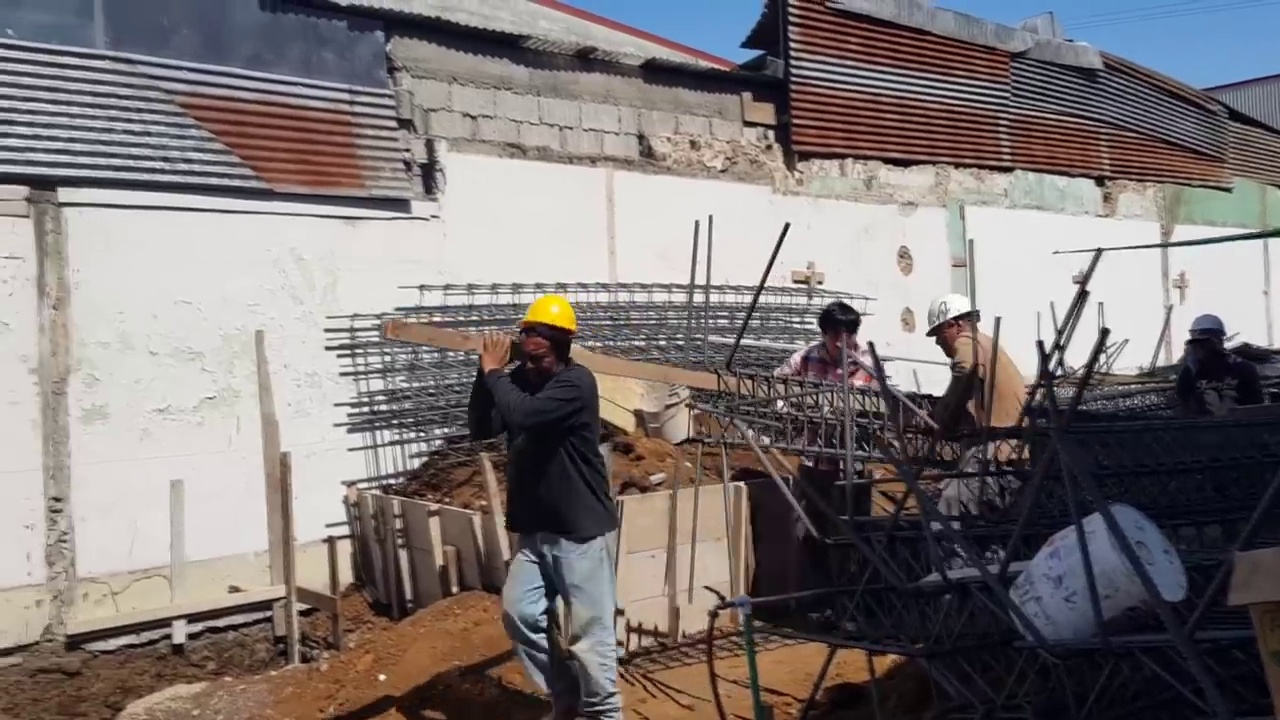helmet: (1187, 314, 1227, 333)
helmet-off: (815, 304, 862, 360)
helmet-on: (515, 294, 576, 375), (924, 294, 986, 359), (515, 294, 577, 333), (1188, 314, 1226, 355)
person: (469, 296, 625, 720), (921, 294, 1030, 582), (775, 314, 886, 478), (1173, 314, 1265, 418)
